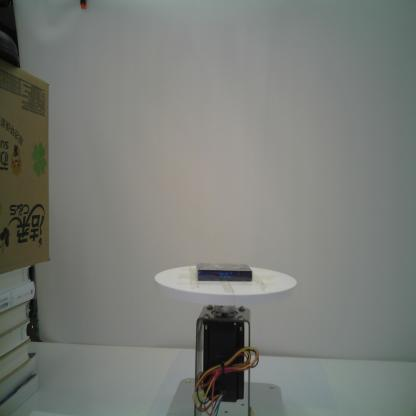Gum: (195, 260, 253, 284)
